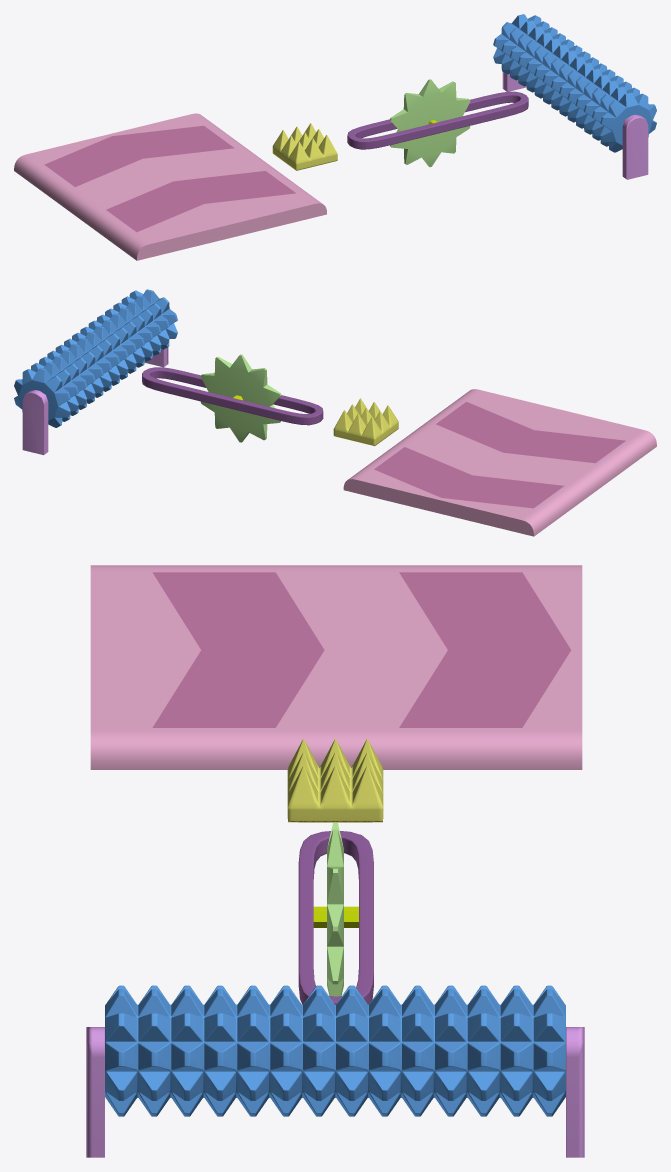
Rendered from engeller.fbx.
3 renders of one model, top to bottom at view 1: azimuth 30°, elevation 25°; view 2: azimuth 150°, elevation 25°; view 3: azimuth 270°, elevation 25°, orthographic. The views are drawn at different scales.
Parts seen in each view (by area): view 1: yol2, engel3, pCylinder1, pCube1, engel1, pCube2; view 2: yol2, engel3, pCylinder1, pCube1, engel1, pCube2; view 3: yol2, engel3, engel1, pCube1, pCube2, pCylinder1.
Part boxes in pixels (x1,y1,x2,y2): yol2: (14,113,326,260); engel3: (493,14,656,152); pCylinder1: (390,79,470,167); pCube1: (347,91,528,149); engel1: (272,123,337,170); pCube2: (502,72,648,179); yol2: (343,389,656,536); engel3: (14,289,177,427); pCylinder1: (200,354,281,442); pCube1: (142,367,323,425); engel1: (333,398,398,446); pCube2: (22,347,168,455); yol2: (90,565,582,769); engel3: (105,985,565,1116); engel1: (287,739,383,822); pCube1: (298,831,373,1004); pCube2: (86,1027,584,1157); pCylinder1: (327,823,343,996).
Bounding box in the file's own units: 264 × 41.84 × 108.
